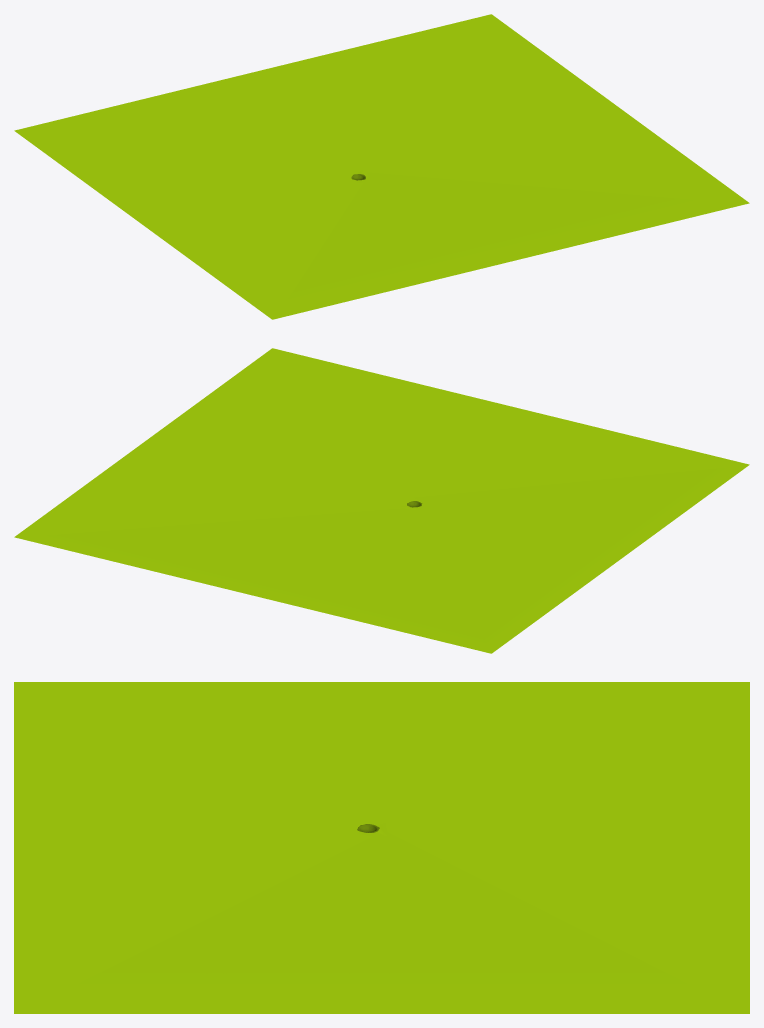
The model's file is Ground.fbx.
The picture shows the model from 3 angles, top to bottom: view 1: azimuth 30°, elevation 25°; view 2: azimuth 150°, elevation 25°; view 3: azimuth 270°, elevation 25°; orthographic projection. The views are drawn at different scales.
Parts seen in each view (by area): view 1: Ground; view 2: Ground; view 3: Ground.
Part boxes in pixels (x1,y1,x2,y2): Ground: [14, 14, 749, 319]; Ground: [14, 348, 749, 653]; Ground: [14, 682, 749, 1013].
Size of the model in its own units: 515 by 1.68 by 483.
